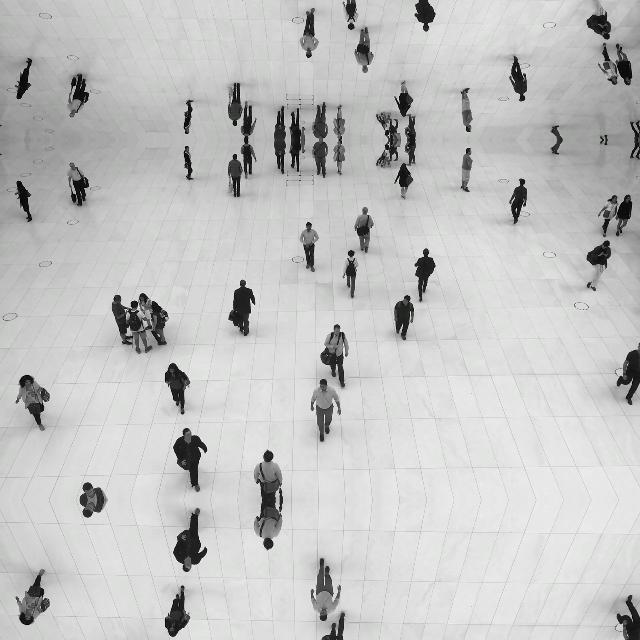person: (172, 428, 208, 492), (172, 508, 208, 572), (15, 374, 51, 432), (15, 568, 51, 626), (310, 378, 342, 442), (310, 558, 342, 622), (320, 324, 350, 388), (616, 342, 640, 406), (125, 300, 153, 354), (164, 362, 192, 416), (164, 584, 192, 638), (253, 450, 283, 500), (253, 500, 283, 550), (232, 279, 256, 337), (586, 240, 612, 292), (414, 248, 436, 302), (111, 294, 133, 346), (616, 594, 640, 640), (586, 0, 612, 39), (299, 222, 319, 272), (299, 8, 319, 58), (597, 42, 619, 86), (354, 206, 374, 254), (354, 26, 374, 74), (597, 195, 619, 238), (508, 178, 528, 224), (394, 295, 414, 341), (149, 300, 169, 346), (508, 56, 528, 102), (320, 612, 349, 640), (68, 162, 86, 206), (68, 74, 86, 118), (342, 250, 358, 298), (15, 180, 33, 222), (615, 194, 633, 236), (15, 58, 33, 100), (615, 44, 633, 86), (413, 0, 436, 32), (240, 140, 258, 180), (240, 100, 258, 140), (394, 163, 412, 199), (394, 81, 412, 117), (138, 292, 154, 332), (228, 154, 242, 198), (228, 82, 242, 126), (312, 140, 328, 178), (312, 102, 328, 140), (79, 482, 109, 500), (79, 500, 109, 518), (460, 148, 472, 192), (460, 88, 472, 132), (341, 0, 358, 30), (332, 140, 346, 176), (332, 104, 346, 140), (288, 140, 302, 172), (288, 108, 302, 140), (182, 146, 194, 180), (274, 140, 286, 174), (182, 100, 194, 134), (274, 106, 286, 140), (404, 140, 418, 166), (404, 114, 418, 140), (387, 140, 401, 162), (387, 118, 401, 140), (381, 144, 392, 168), (381, 112, 392, 136), (630, 140, 640, 160), (630, 120, 640, 140), (550, 140, 564, 154), (550, 126, 564, 140), (301, 140, 307, 154), (301, 126, 307, 140), (600, 140, 608, 146), (600, 134, 608, 140), (232, 0, 256, 1)
